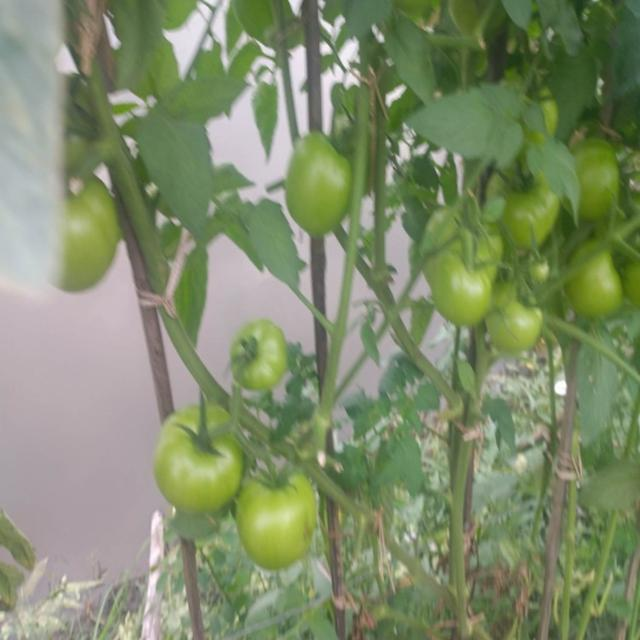tomato: (239, 465, 316, 565), (156, 408, 236, 503), (62, 178, 118, 295), (287, 137, 350, 226), (574, 133, 630, 221), (499, 164, 557, 243), (489, 278, 547, 352), (438, 246, 491, 323), (60, 76, 101, 175), (233, 325, 286, 394), (577, 263, 627, 320), (537, 87, 558, 129)
